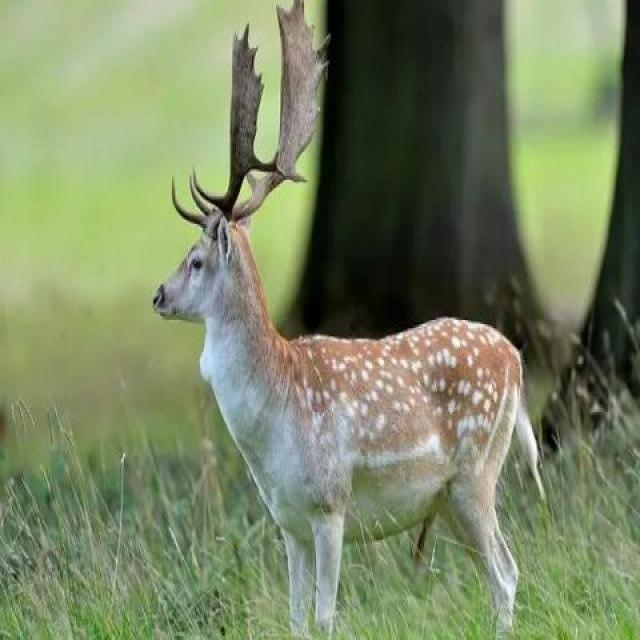deer: (156, 189, 587, 584)
